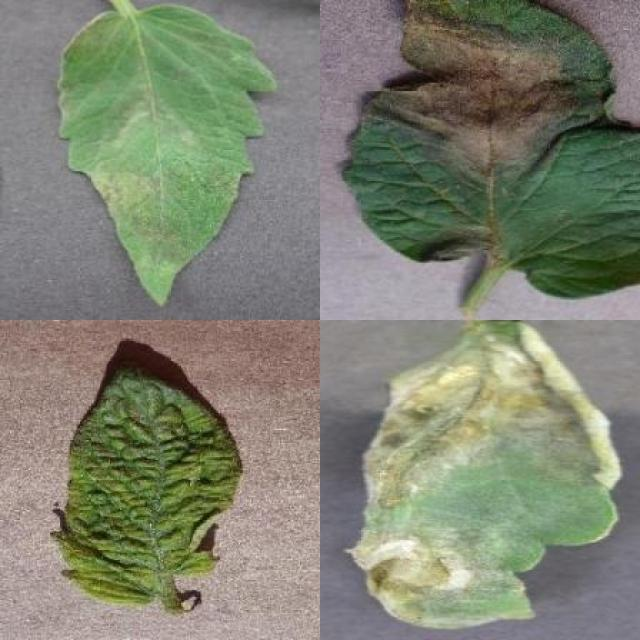Late Blight: (343, 0, 640, 300), (345, 320, 624, 630), (55, 5, 278, 308)
Yellow Leaf Curl Virus: (53, 369, 241, 604)
